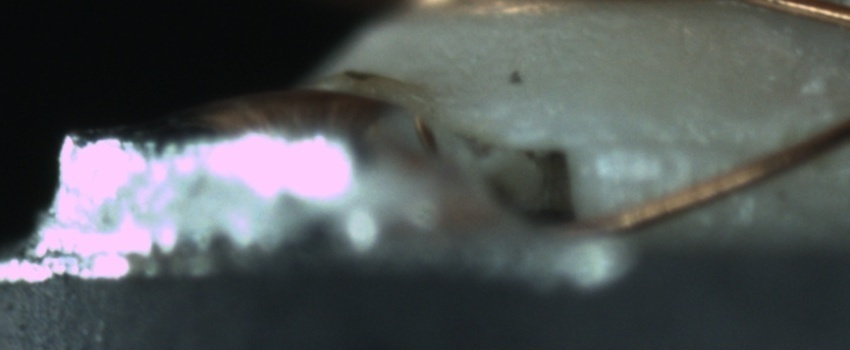DL: (584, 105, 800, 184)
